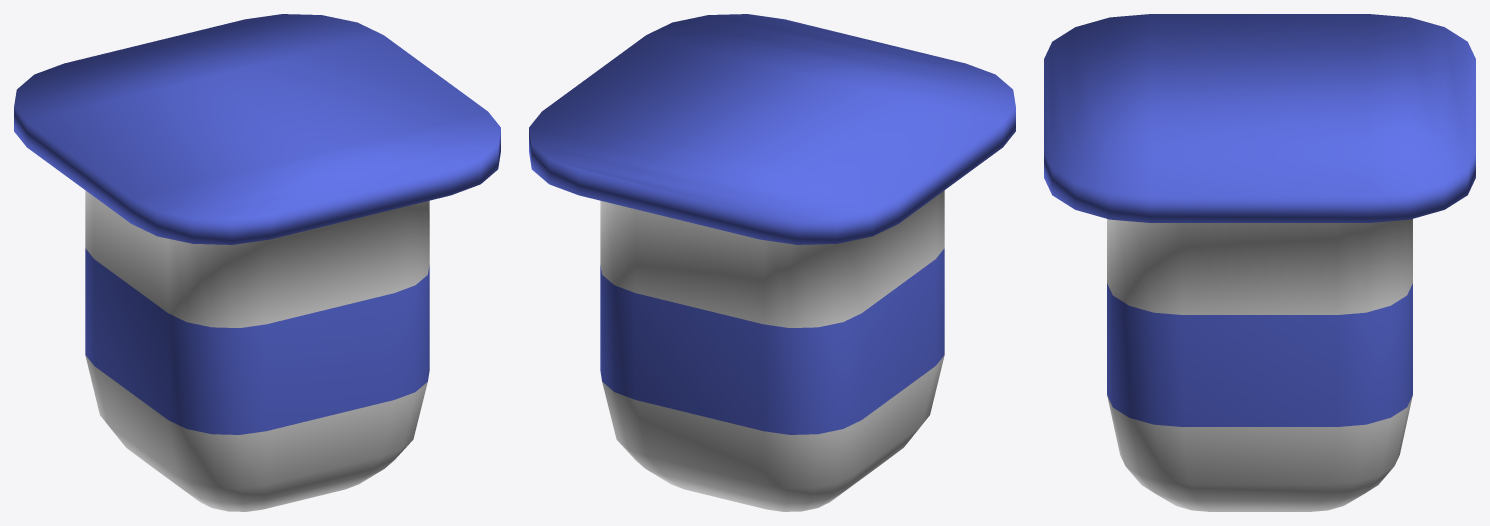
File: Yaourt.glb
The picture shows the model from 3 angles, left to right: view 1: azimuth 30°, elevation 25°; view 2: azimuth 150°, elevation 25°; view 3: azimuth 270°, elevation 25°; orthographic projection. The views are drawn at different scales.
Parts seen in each view (by area): view 1: Yaourt; view 2: Yaourt; view 3: Yaourt.
Boxes of the visible parts, <box> form: Yaourt: <box>14,14,500,511</box>; Yaourt: <box>529,14,1015,511</box>; Yaourt: <box>1044,14,1475,511</box>.
Size of the model in its own units: 2.63 by 2.45 by 2.63.
